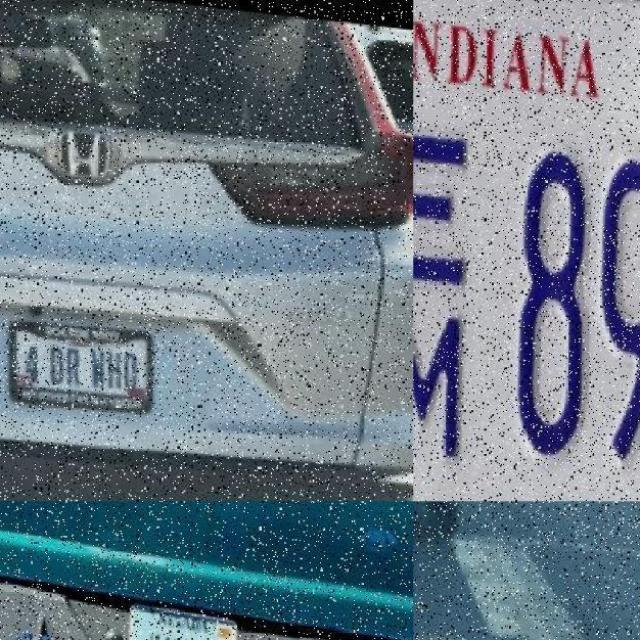license-plate: (418, 6, 640, 493), (15, 321, 151, 419), (126, 594, 280, 640)
